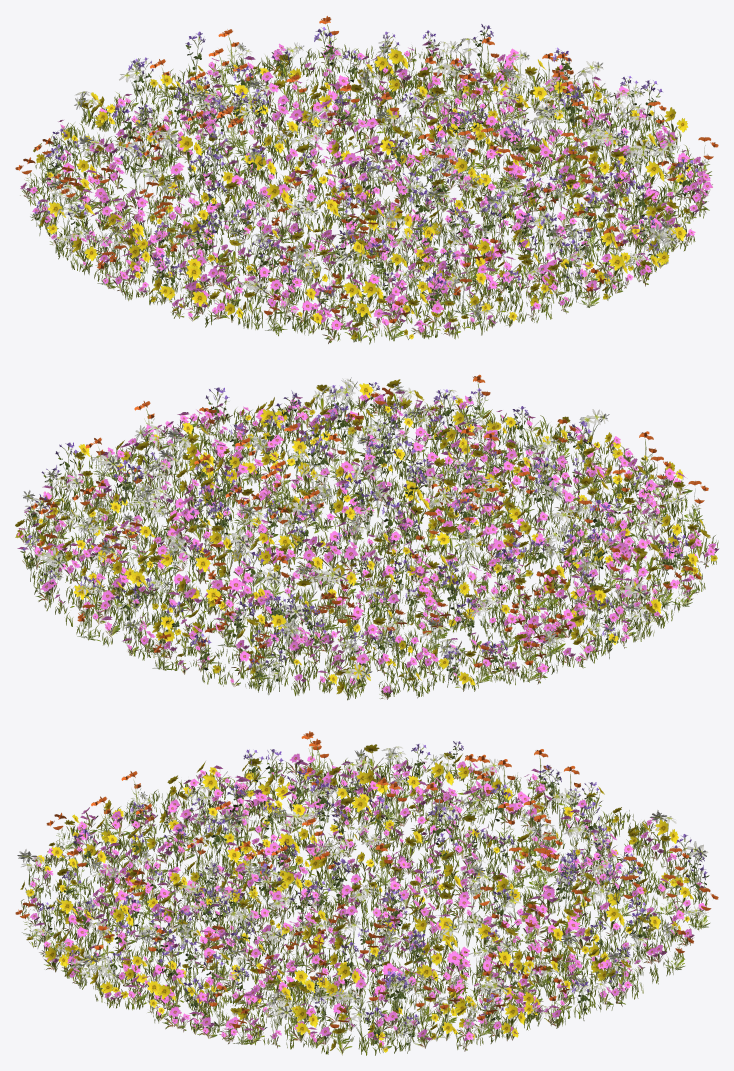
Rendered from flower.glb.
The picture shows the model from 3 angles, top to bottom: view 1: azimuth 30°, elevation 25°; view 2: azimuth 150°, elevation 25°; view 3: azimuth 270°, elevation 25°; orthographic projection.
Parts seen in each view (by area): view 1: Flower; view 2: Flower; view 3: Flower.
Part boxes in pixels (box(x1,y1,x2,y2)): Flower: box(15, 15, 718, 344); Flower: box(15, 374, 718, 700); Flower: box(15, 731, 718, 1055).
Bounding box in the file's own units: 7.07 × 0.6049 × 7.11.
Materials: 7 (7 with a texture image).
